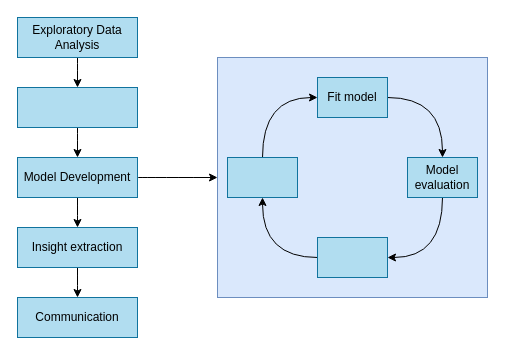
Some shapes in this 505 by 355 pixel diagram are drawn without their labels. Each missing label, with the box of its shape:
Inspect inferences: (316, 236, 388, 278)
Planning: (16, 86, 138, 128)
Propose model: (226, 156, 298, 198)
